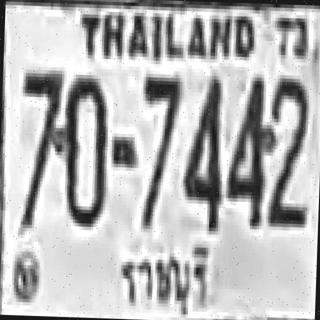N00: (60, 71, 109, 224)
N02: (264, 75, 310, 224), (264, 74, 307, 214)
N04: (179, 72, 223, 228), (225, 73, 269, 226)
N07: (16, 68, 62, 227), (138, 74, 180, 226), (139, 74, 180, 206), (140, 74, 180, 176)
P52: (109, 235, 221, 318)
